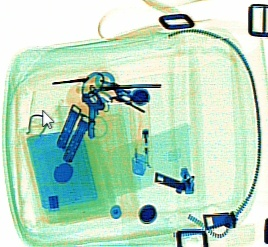lighter: (125, 94, 152, 175)
